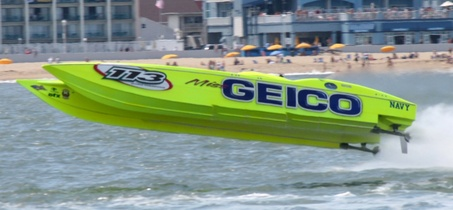geico: (221, 73, 369, 115)
